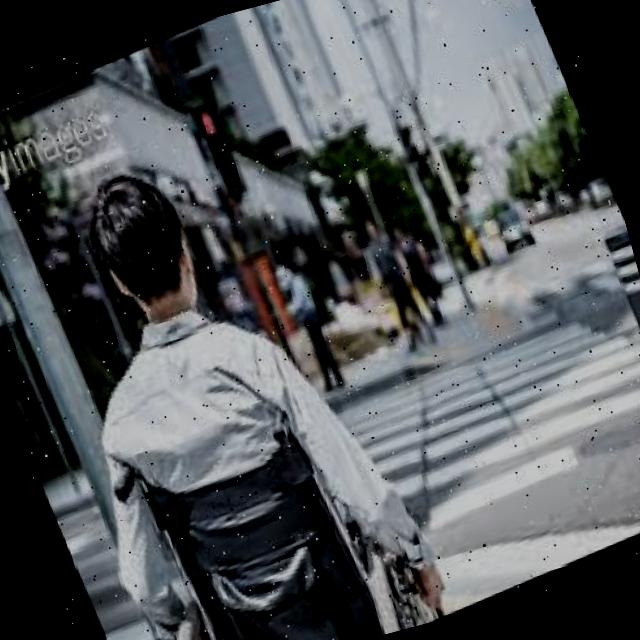Person: (0, 97, 457, 640)
